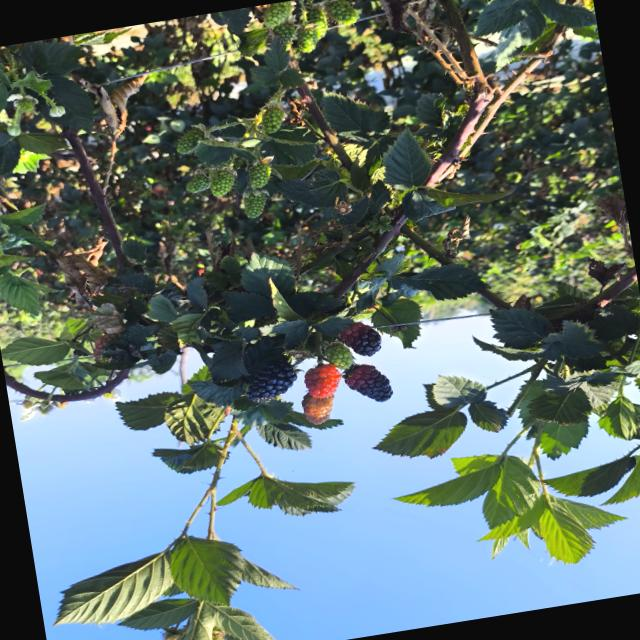maduro: (247, 356, 297, 402)
marron: (345, 365, 393, 402), (339, 323, 381, 356)
naranja: (305, 363, 341, 398), (302, 394, 334, 425)
verde: (324, 343, 353, 370), (326, 0, 357, 25), (264, 1, 292, 28), (176, 128, 204, 154), (244, 189, 268, 218), (272, 21, 298, 47), (307, 8, 328, 39), (211, 170, 235, 197), (262, 106, 284, 134), (248, 163, 271, 188), (297, 28, 318, 53), (186, 174, 211, 193)
